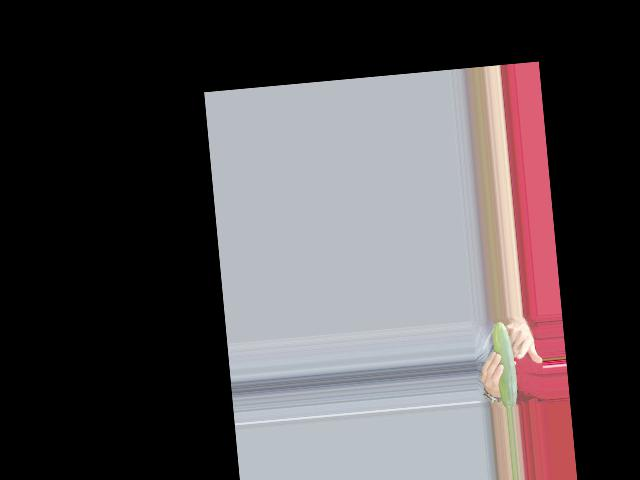cucumber: (490, 321, 519, 408)
